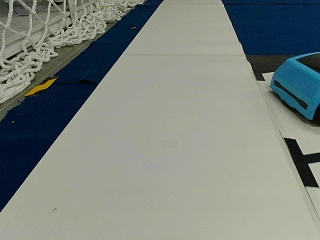car: (269, 50, 319, 124)
